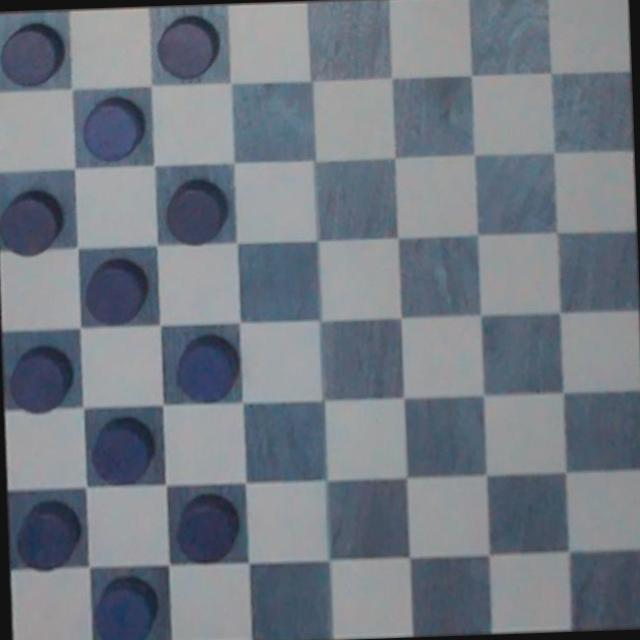BOARD: (0, 0, 640, 640)
black: (6, 488, 84, 572), (0, 8, 72, 88), (0, 182, 74, 258), (80, 254, 152, 331), (1, 344, 75, 418), (170, 332, 243, 407), (88, 411, 156, 489), (154, 8, 222, 84), (162, 175, 229, 252), (176, 491, 243, 568), (91, 569, 163, 640), (78, 92, 145, 166)
